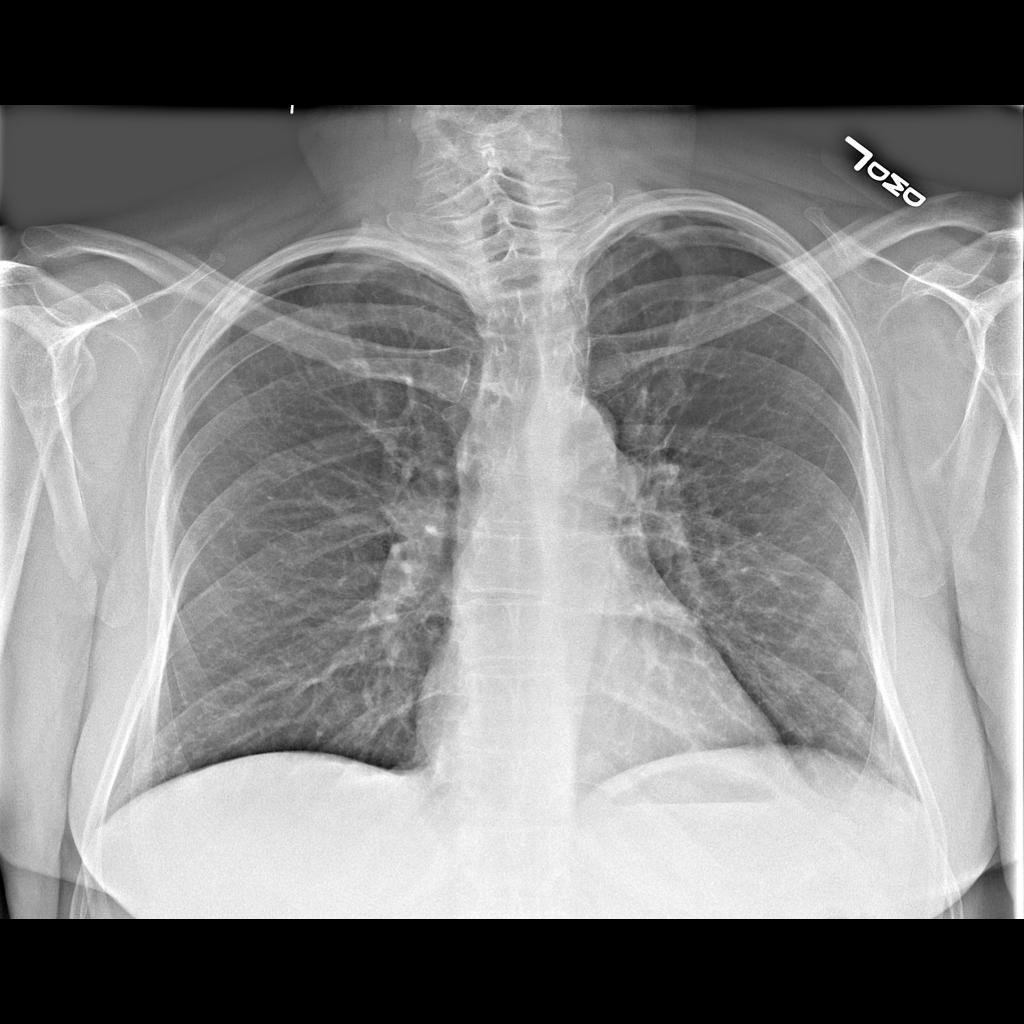Nodule: (833, 641, 858, 679)
